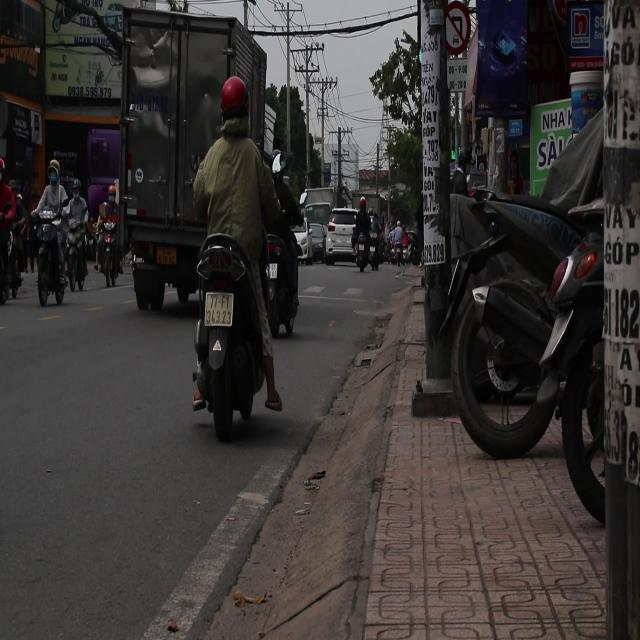car: (325, 209, 358, 263), (300, 221, 326, 263)
motorbike: (189, 232, 283, 440), (30, 208, 71, 316), (0, 170, 28, 317), (63, 212, 91, 314), (93, 207, 123, 288), (354, 218, 382, 274)
truck: (113, 13, 297, 304)
